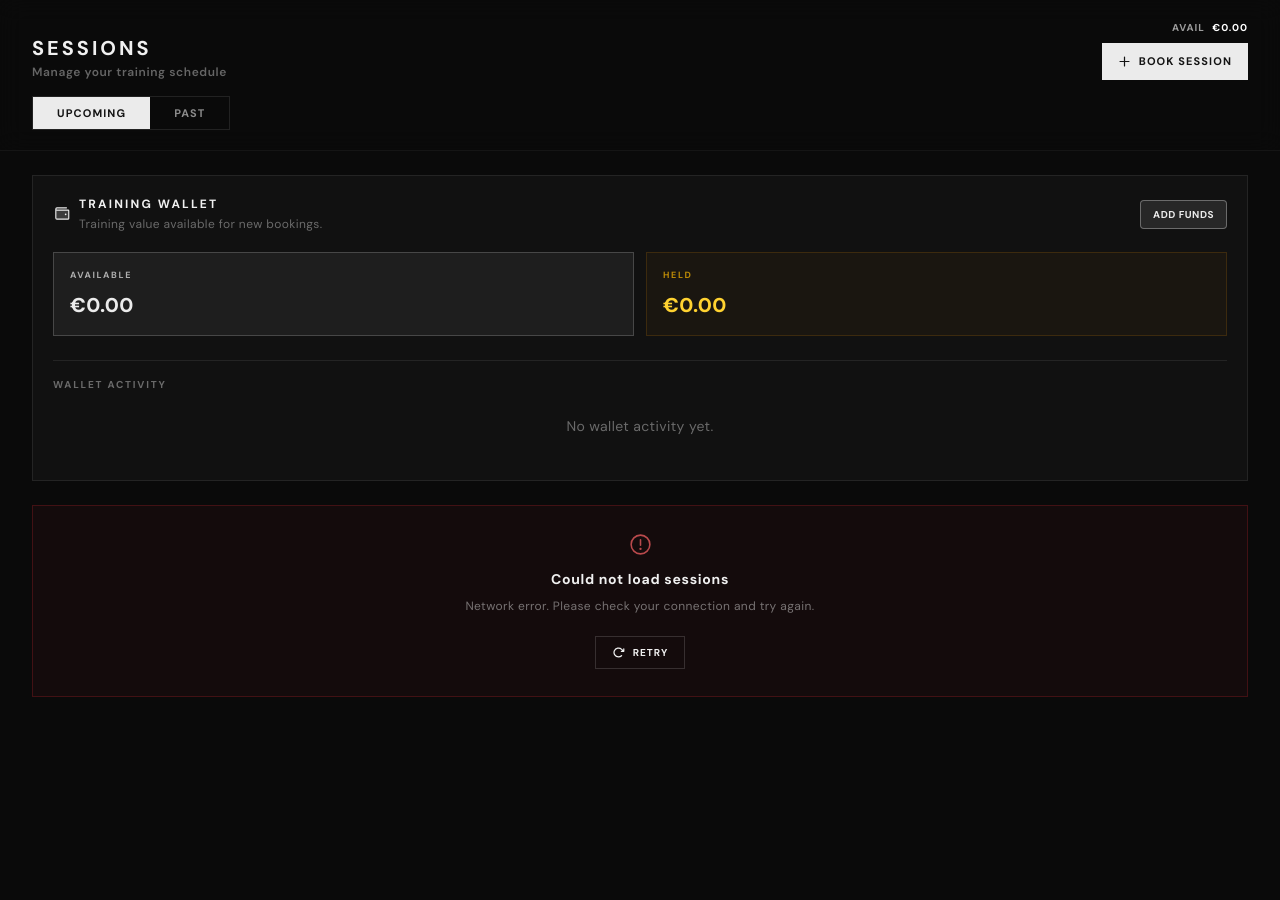
Test case: Sessions booking integration › shows a recoverable error and retries both API requests
Expected: the message with test id "sessions-error" is shown, [32,504,1248,696]
Click the button "Retry" at [640, 653], box [595,636,685,669]
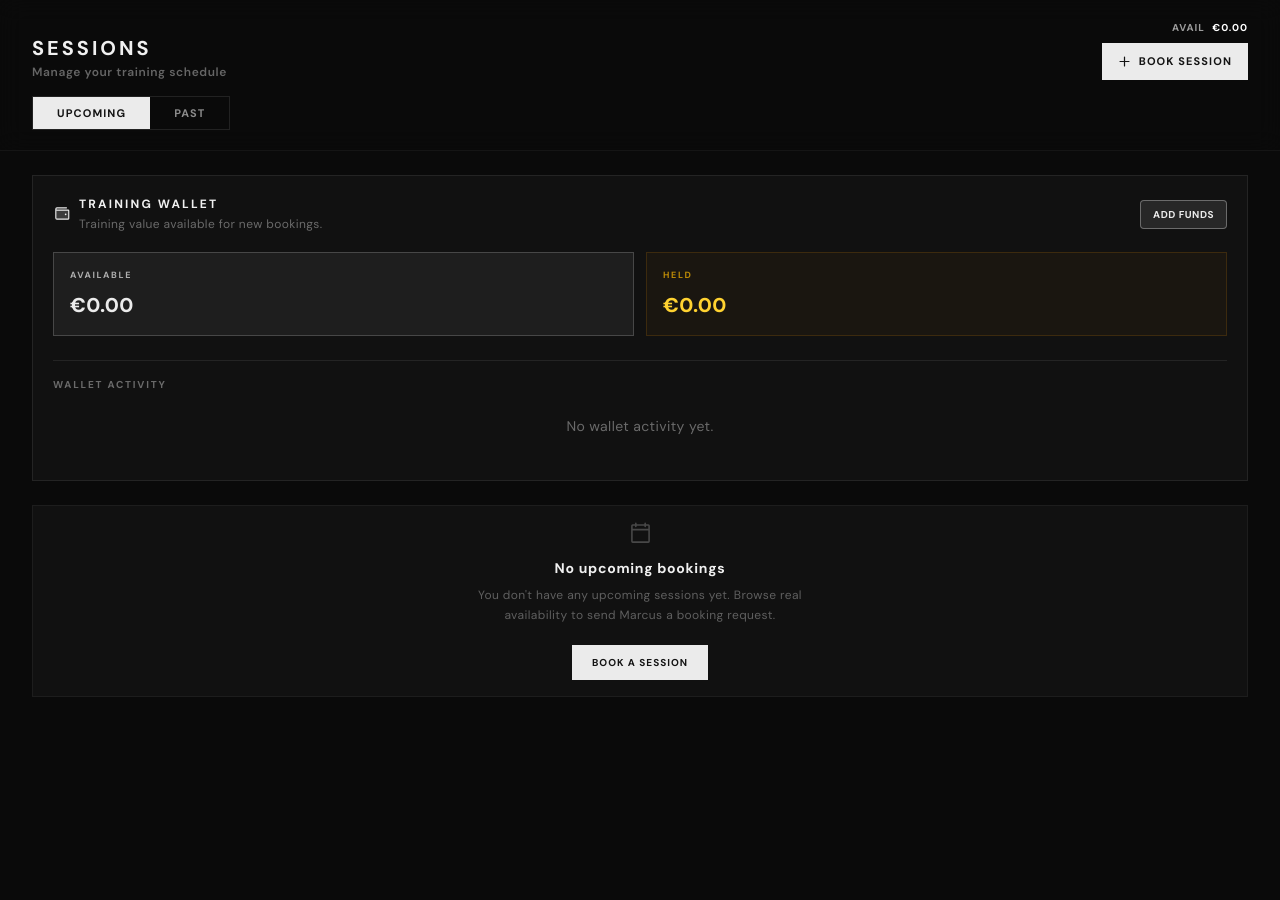
Expected: the heading "No upcoming bookings" is shown, [555,558,725,578]
